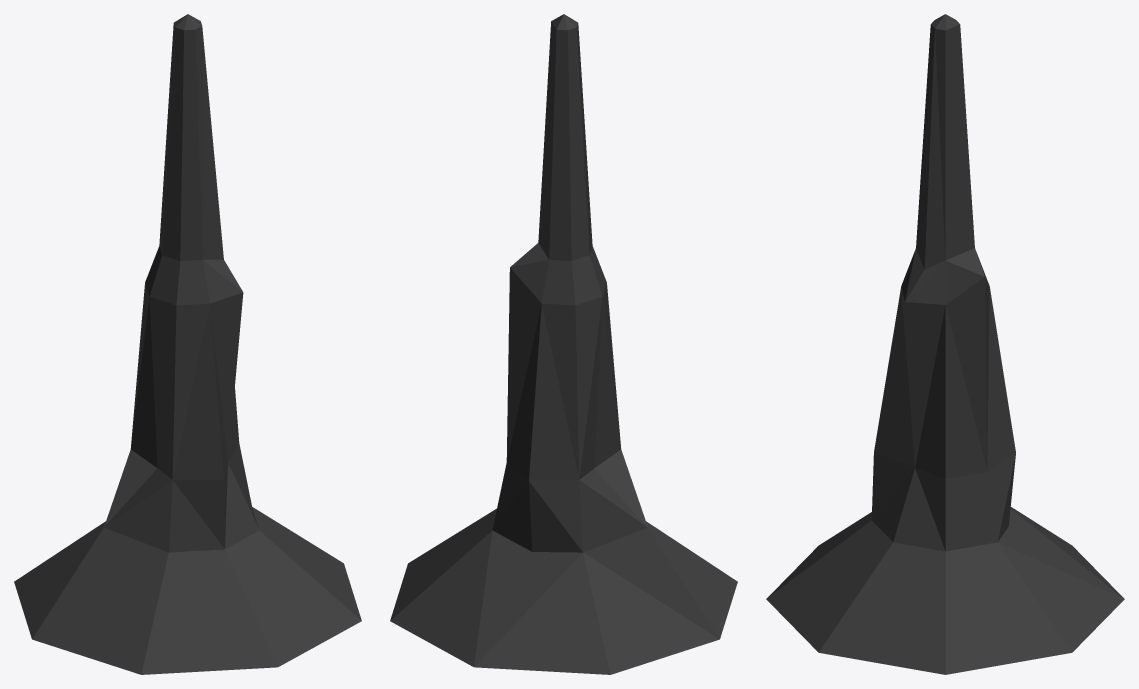
File: Stal_2D.fbx
3 renders of one model, left to right at view 1: azimuth 30°, elevation 25°; view 2: azimuth 150°, elevation 25°; view 3: azimuth 270°, elevation 25°, orthographic.
Visible parts, largest first — view 1: pCone36; view 2: pCone36; view 3: pCone36.
Part boxes in pixels (left/top/right/bottom): pCone36: left=14, top=14, right=361, bottom=674; pCone36: left=390, top=14, right=737, bottom=674; pCone36: left=766, top=14, right=1124, bottom=674.
Size of the model in its own units: 1.94 by 3.5 by 1.94.
